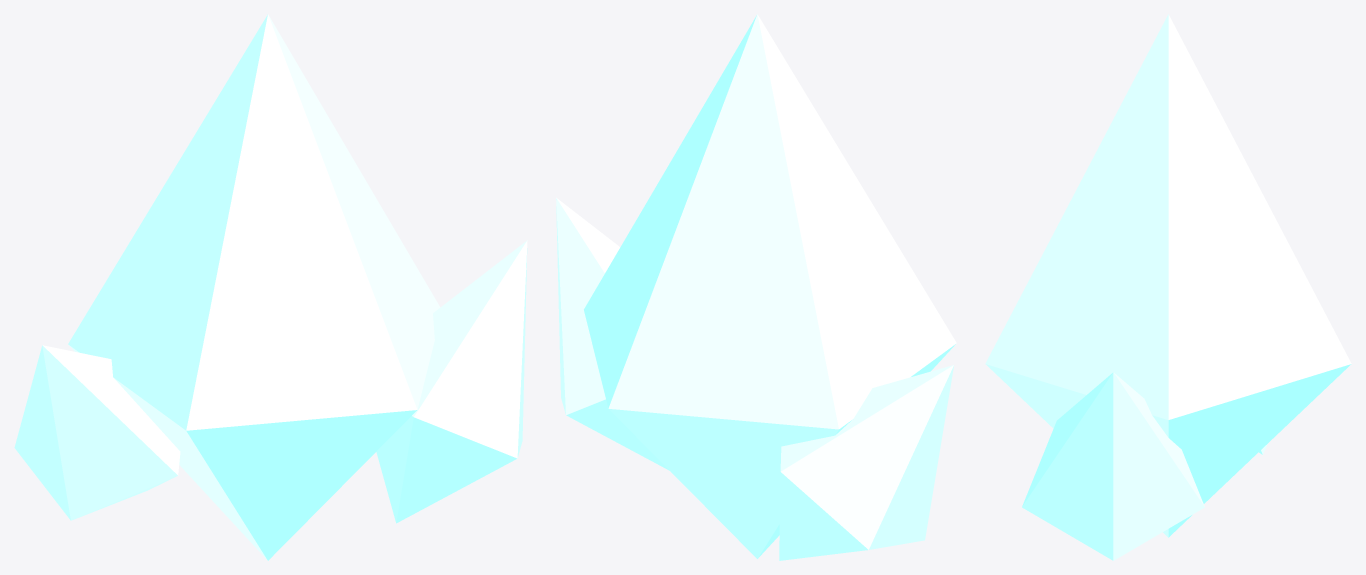
File: lumite-chunk.glb
The picture shows the model from 3 angles, left to right: view 1: azimuth 30°, elevation 25°; view 2: azimuth 150°, elevation 25°; view 3: azimuth 270°, elevation 25°; orthographic projection. The views are drawn at different scales.
Visible parts, largest first — view 1: pickup; view 2: pickup; view 3: pickup.
Part boxes in pixels (bbox=[...]): pickup: bbox=[14, 14, 527, 560]; pickup: bbox=[556, 14, 956, 560]; pickup: bbox=[985, 14, 1351, 560].
Bounding box in the file's own units: 0.3554 × 0.42 × 0.2663.
